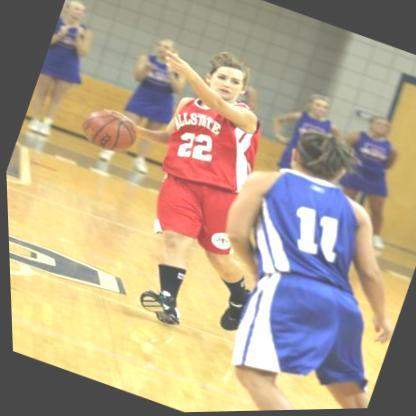basketball: (76, 103, 143, 160)
